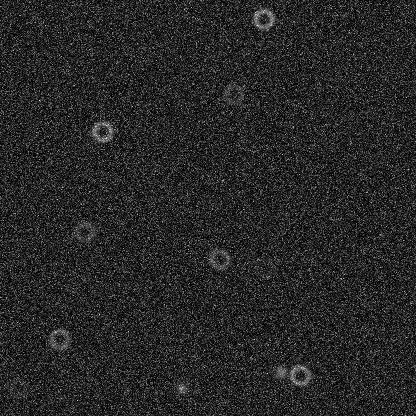Ring: (251, 7, 275, 31), (72, 219, 96, 243), (47, 326, 71, 350), (221, 82, 245, 106), (251, 255, 275, 279), (90, 119, 114, 143), (5, 376, 29, 400), (207, 247, 231, 271), (288, 363, 312, 387)
Spot: (173, 379, 189, 395), (272, 364, 288, 380)
